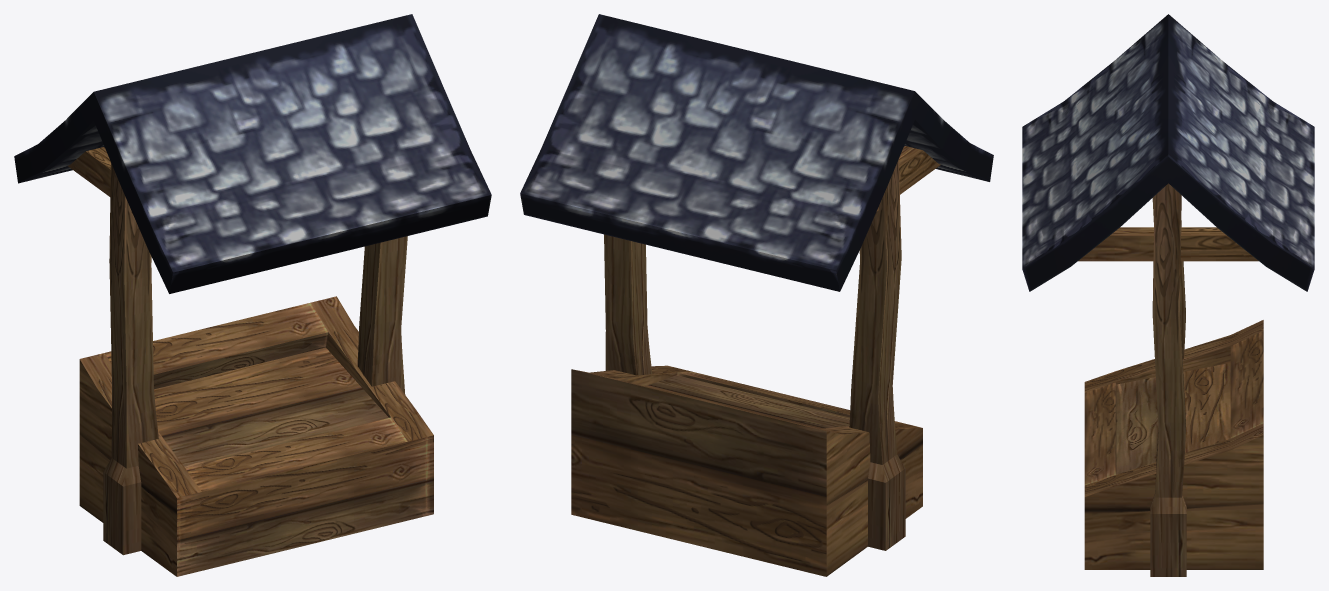
File: fanasty_mod_fruit_stall.fbx
3 renders of one model, left to right at view 1: azimuth 30°, elevation 25°; view 2: azimuth 150°, elevation 25°; view 3: azimuth 270°, elevation 25°, orthographic. The views are drawn at different scales.
Parts seen in each view (by area): view 1: fruit_stall; view 2: fruit_stall; view 3: fruit_stall.
Boxes of the visible parts, x1,y1,x2,y2 form: fruit_stall: (14,14,491,576); fruit_stall: (520,14,993,576); fruit_stall: (1022,14,1314,576).
Bounding box in the file's own units: 3.4 × 4.68 × 2.92.
